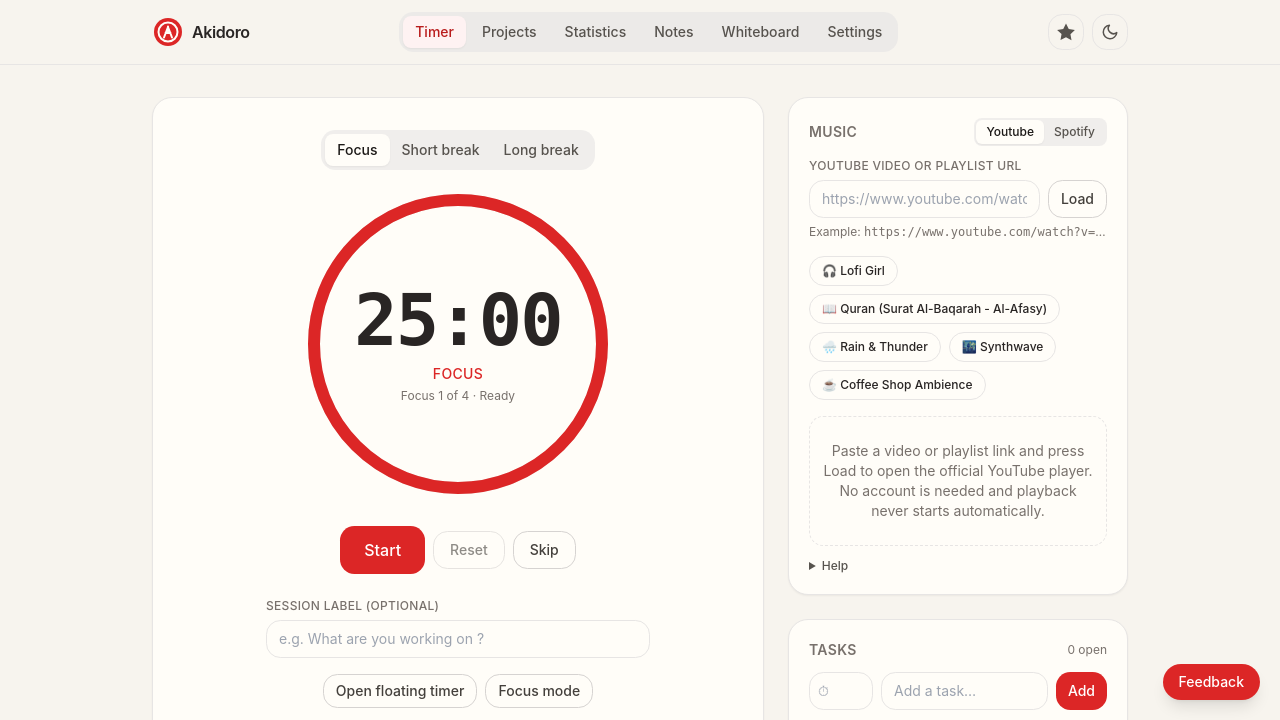
Notes › edits an existing note in place and updates the preview
Click the button "Notes" at [674, 32], box [642,16,706,48]
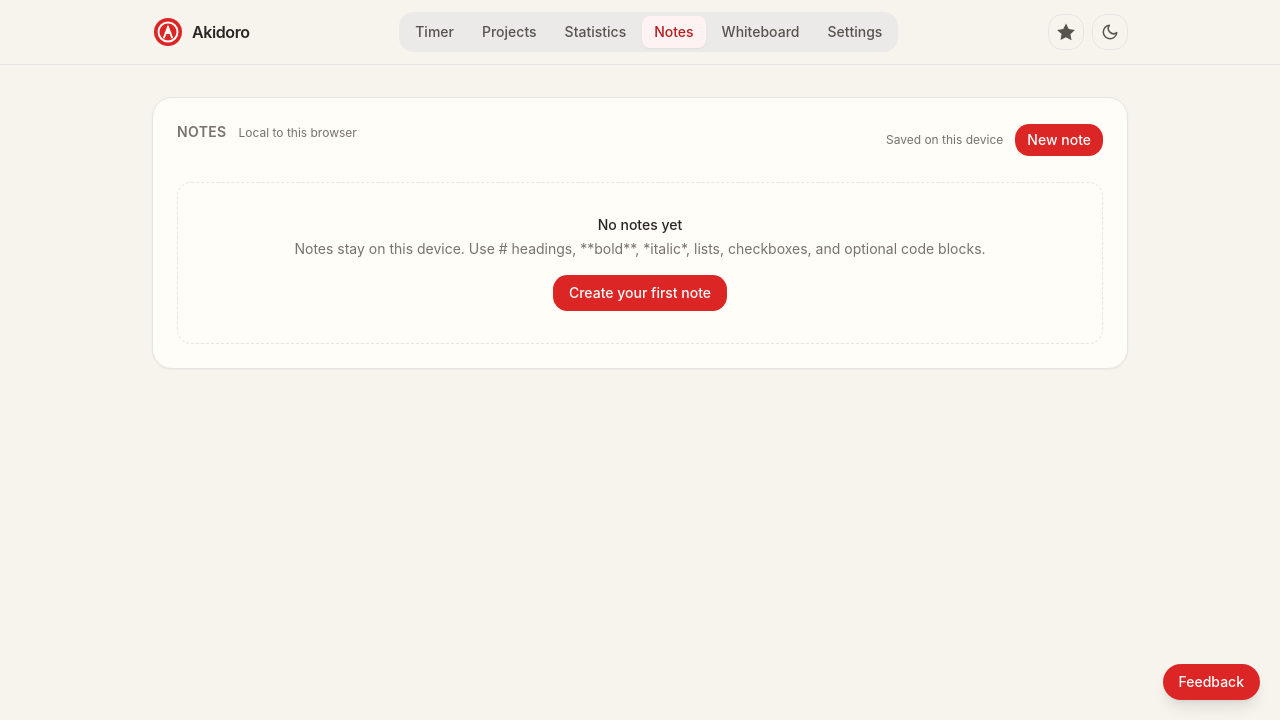
Click the button "New note" at [1059, 140], box [1015,124,1103,156]
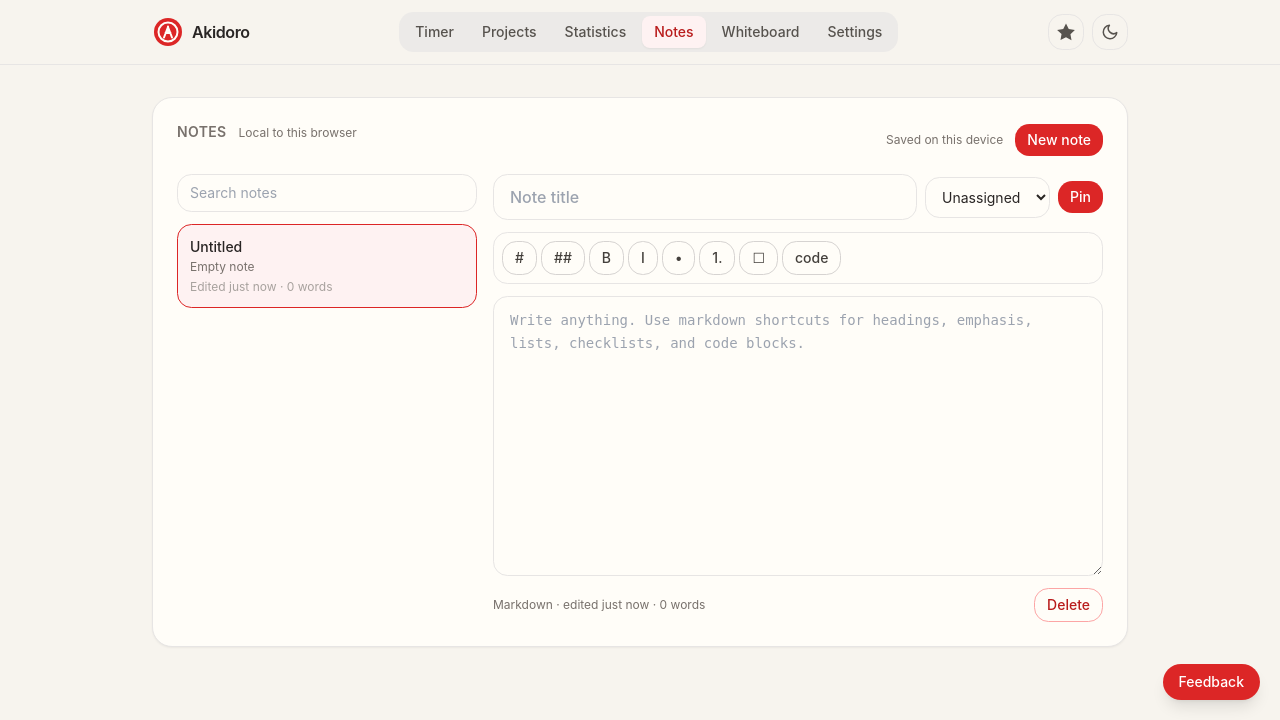
Type "Draft" into the field labelled "Note title" at [705, 197], box [493,174,917,220]
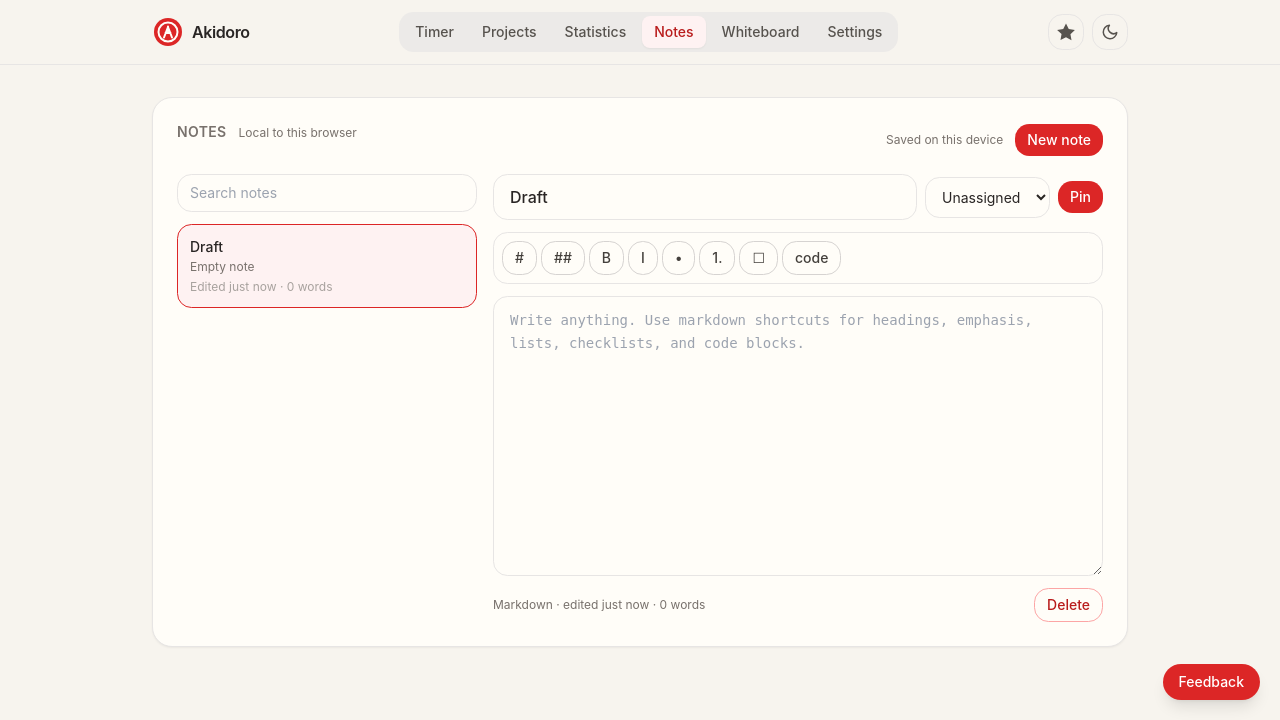
Replace the text in the text box named "Note content" with "First draft" at [798, 436], box [493,296,1103,576]
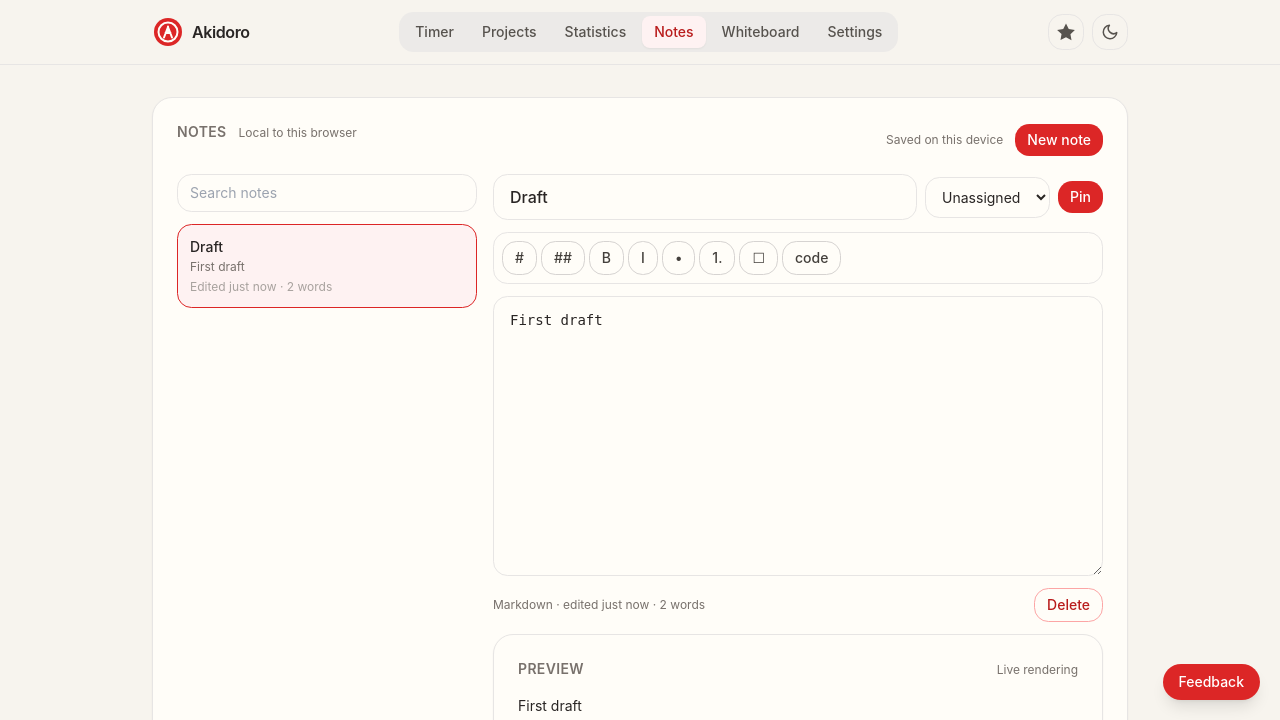
Replace the text in the field named "Note title" with "Final" at [705, 197], box [493,174,917,220]
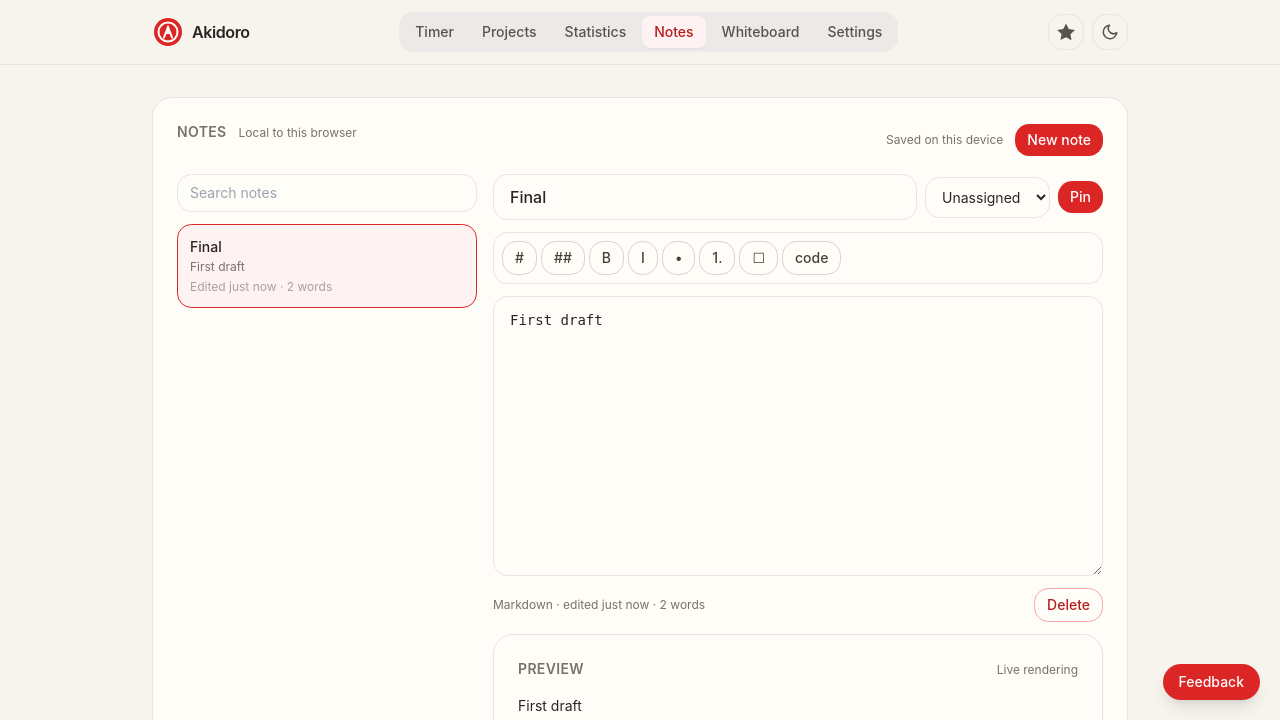
Replace the text in the text box named "Note content" with "Polished text" at [798, 436], box [493,296,1103,576]
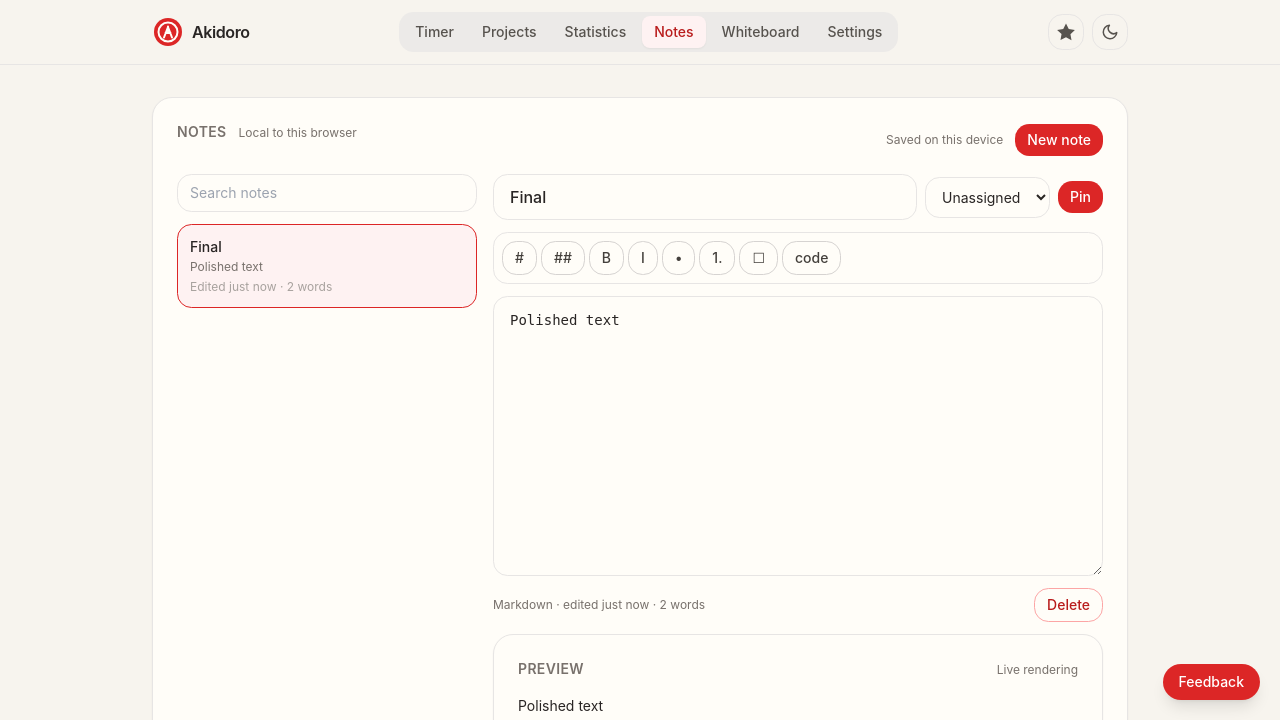
Now the list item shows "Final", box [177,224,477,308]
Now the text "Final" is shown, box [190,237,222,257]
Now the list item shows "Polished text", box [177,224,477,308]
